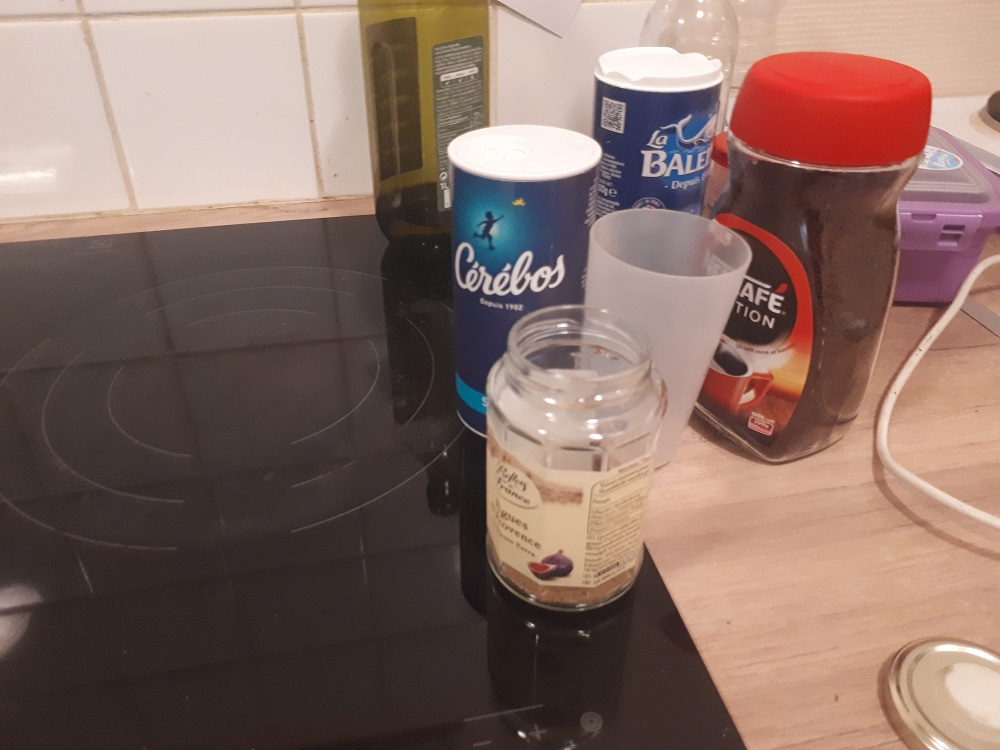ecocup: (567, 205, 752, 479)
